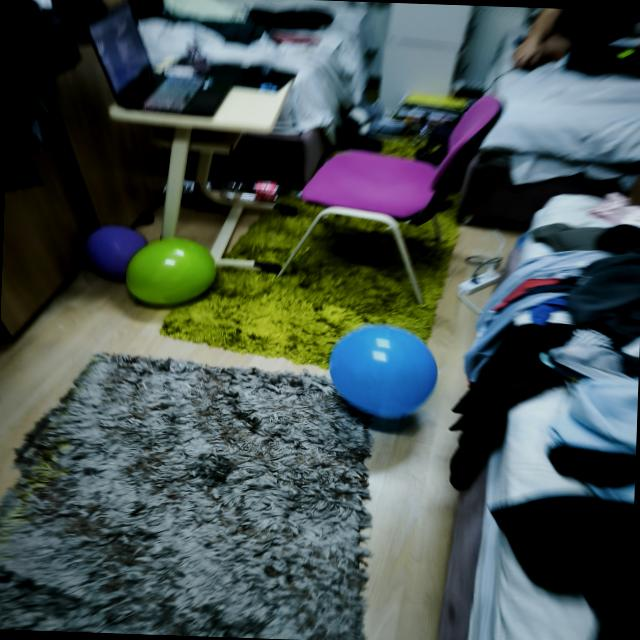balloon: (329, 325, 437, 418), (125, 237, 215, 305)
